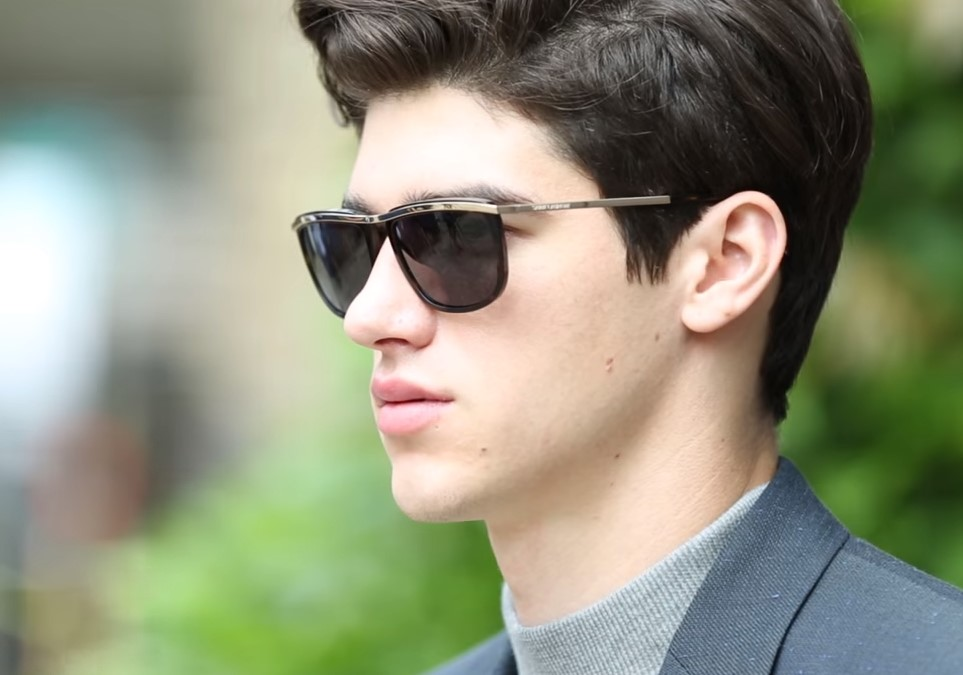face_no_mask: (320, 36, 798, 542)
